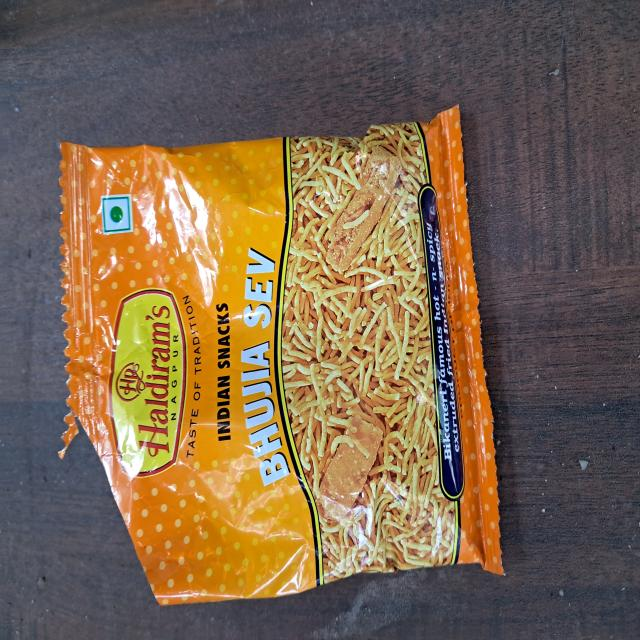Anorganik: (34, 81, 528, 615)
